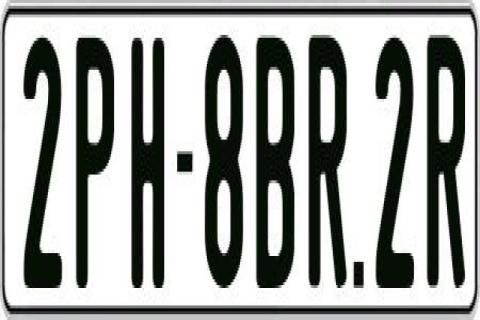0: (202, 35, 246, 305), (23, 38, 66, 291), (376, 32, 414, 285)
B: (255, 35, 299, 285)
H: (130, 35, 168, 291)
P: (73, 32, 111, 300)
R: (426, 29, 466, 291), (310, 32, 348, 291)
